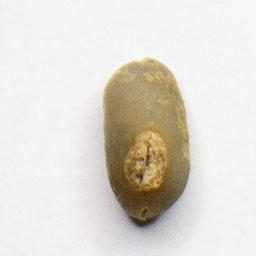peaberry: (98, 54, 196, 226)
